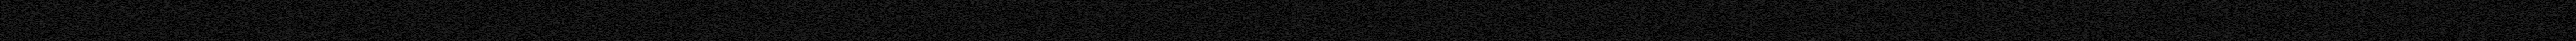wv_cw: (2441, 0, 2446, 41), (2021, 0, 2024, 41), (2022, 0, 2026, 41)
wv_usb: (2440, 0, 2443, 41), (1470, 0, 1474, 39)
wv_wbfm: (1561, 0, 1590, 41), (2031, 0, 2058, 41)
